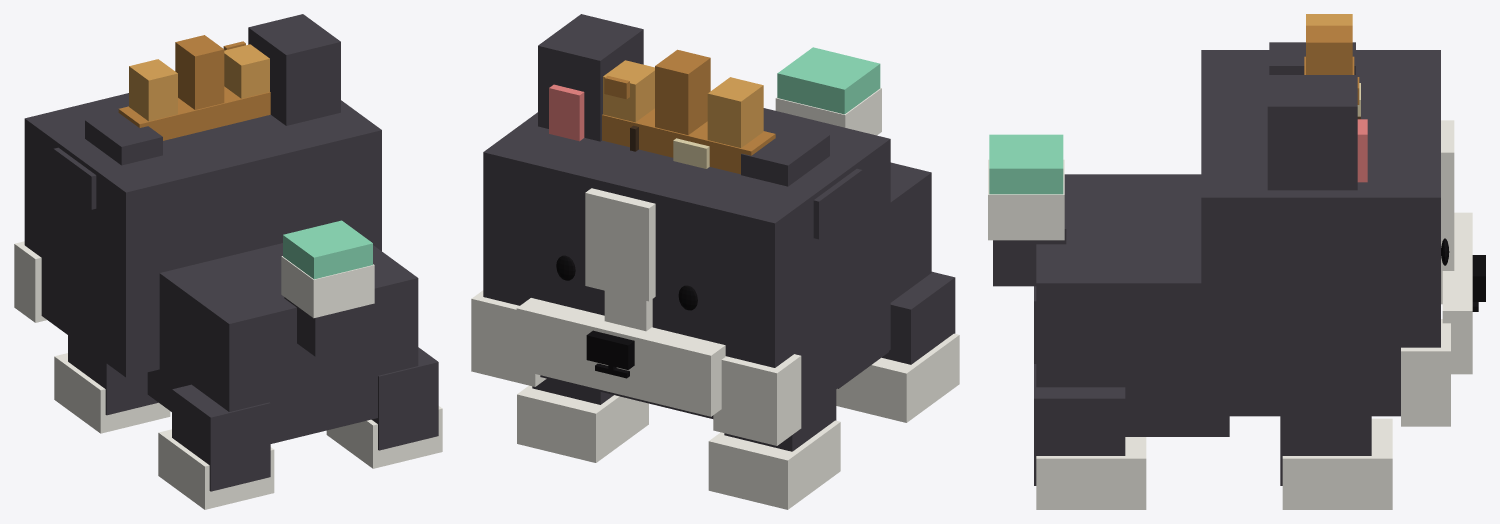
The model's file is BorderCollie_Block.glb.
3 views of the same model, side by side, from view 1: azimuth 30°, elevation 25°; view 2: azimuth 150°, elevation 25°; view 3: azimuth 270°, elevation 25° (orthographic). The views are drawn at different scales.
Visible parts, largest first — view 1: BigHead, ShortTorso, UprightEarR, LegBL_Leg, LegBR_Leg, LegBL_Paw, TailMintTip, TailWhiteBand, LegFL_Paw, CrownBand, CrownCrenelCenter, TailRoot (+7 smaller); view 2: BigHead, WhiteMuzzle, LegFL_Paw, UprightEarR, LegFR_Paw, WhiteBlazeUpper, HangingCheekFluffL, LegBL_Paw, ShortTorso, TailMintTip, LegBL_Leg, CrownCrenelCenter (+13 smaller); view 3: BigHead, ShortTorso, UprightEarR, LegFR_Paw, LegBR_Leg, LegBR_Paw, TailMintTip, HangingCheekFluffR, WhiteMuzzle, LegFR_Leg, TailWhiteBand, CrownCrenelCenter (+6 smaller).
Boxes of the visible parts, x1=… form: BigHead: x1=24, y1=93, x2=381, y2=377; ShortTorso: x1=147, y1=243, x2=418, y2=443; UprightEarR: x1=248, y1=14, x2=340, y2=125; LegBL_Leg: x1=172, y1=384, x2=270, y2=491; LegBR_Leg: x1=371, y1=347, x2=438, y2=450; LegBL_Paw: x1=158, y1=429, x2=274, y2=509; TailMintTip: x1=283, y1=220, x2=372, y2=279; TailWhiteBand: x1=281, y1=256, x2=374, y2=318; LegFL_Paw: x1=54, y1=353, x2=170, y2=433; CrownBand: x1=118, y1=86, x2=270, y2=140; CrownCrenelCenter: x1=175, y1=35, x2=224, y2=109; TailRoot: x1=284, y1=297, x2=368, y2=356; BigHead: x1=483, y1=108, x2=890, y2=418; WhiteMuzzle: x1=516, y1=298, x2=725, y2=416; LegFL_Paw: x1=708, y1=420, x2=840, y2=509; UprightEarR: x1=538, y1=14, x2=643, y2=141; LegFR_Paw: x1=517, y1=385, x2=648, y2=462; WhiteBlazeUpper: x1=585, y1=188, x2=655, y2=301; HangingCheekFluffL: x1=713, y1=354, x2=801, y2=445; LegBL_Paw: x1=836, y1=333, x2=959, y2=422; ShortTorso: x1=838, y1=162, x2=931, y2=388; TailMintTip: x1=777, y1=47, x2=880, y2=114; LegBL_Leg: x1=882, y1=271, x2=955, y2=364; CrownCrenelCenter: x1=655, y1=49, x2=710, y2=135; BigHead: x1=1201, y1=50, x2=1440, y2=416; ShortTorso: x1=1036, y1=174, x2=1229, y2=436; UprightEarR: x1=1267, y1=75, x2=1357, y2=190; LegFR_Paw: x1=1282, y1=418, x2=1392, y2=509; LegBR_Leg: x1=1034, y1=364, x2=1125, y2=485; LegBR_Paw: x1=1036, y1=437, x2=1146, y2=509; TailMintTip: x1=989, y1=134, x2=1063, y2=194; HangingCheekFluffR: x1=1401, y1=319, x2=1450, y2=426; WhiteMuzzle: x1=1442, y1=212, x2=1472, y2=374; LegFR_Leg: x1=1280, y1=416, x2=1371, y2=485; TailWhiteBand: x1=988, y1=159, x2=1064, y2=240; CrownCrenelCenter: x1=1306, y1=25, x2=1352, y2=74.
Bounding box in the file's own units: 2.2 × 2.7 × 2.99.
